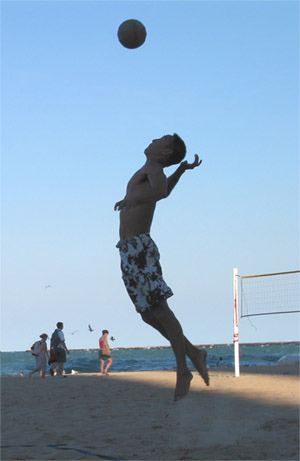person: (115, 135, 210, 402)
